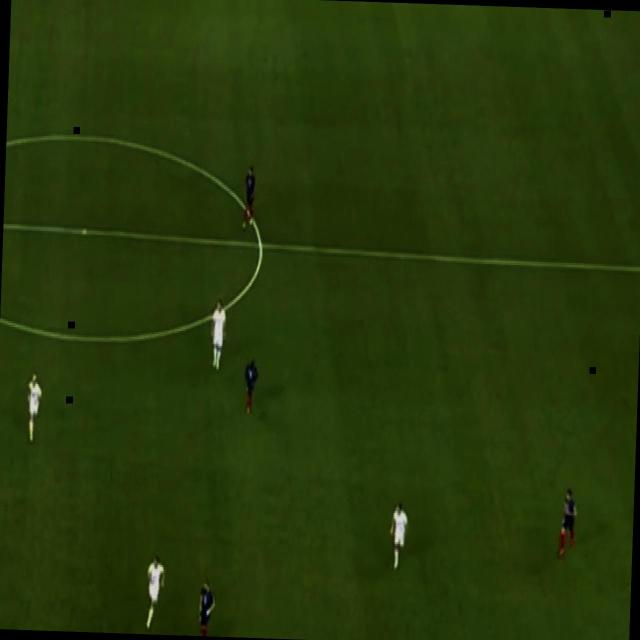player-white: (144, 552, 167, 634), (555, 488, 579, 560), (386, 500, 410, 571), (208, 296, 228, 372), (24, 371, 44, 445), (240, 162, 258, 234), (199, 578, 219, 636), (242, 356, 260, 418)
